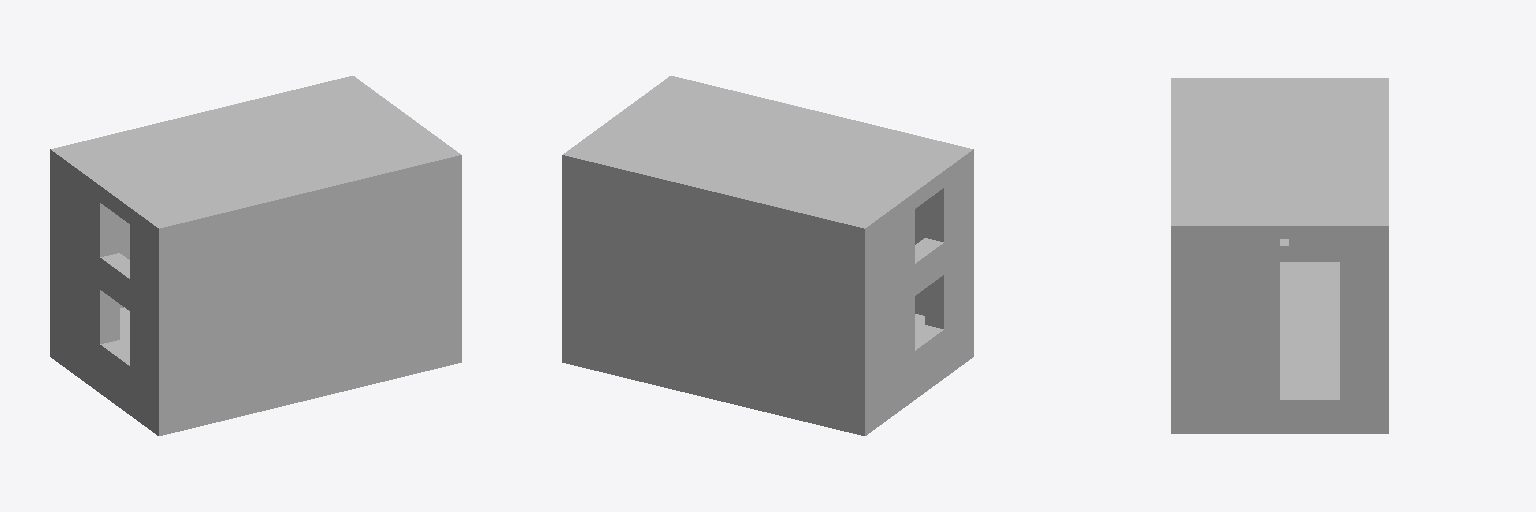
The model's file is chambre1_rdc.obj.
3 views of the same model, side by side, from view 1: azimuth 30°, elevation 25°; view 2: azimuth 150°, elevation 25°; view 3: azimuth 270°, elevation 25° (orthographic).
Visible parts, largest first — view 1: Chambre1_RDC_Cube.010; view 2: Chambre1_RDC_Cube.010; view 3: Chambre1_RDC_Cube.010.
Part boxes in pixels (bbox=[...]): Chambre1_RDC_Cube.010: bbox=[50, 76, 461, 435]; Chambre1_RDC_Cube.010: bbox=[562, 76, 973, 435]; Chambre1_RDC_Cube.010: bbox=[1171, 78, 1388, 433].
Bounding box in the file's own units: 4.73 × 3.1 × 2.93.